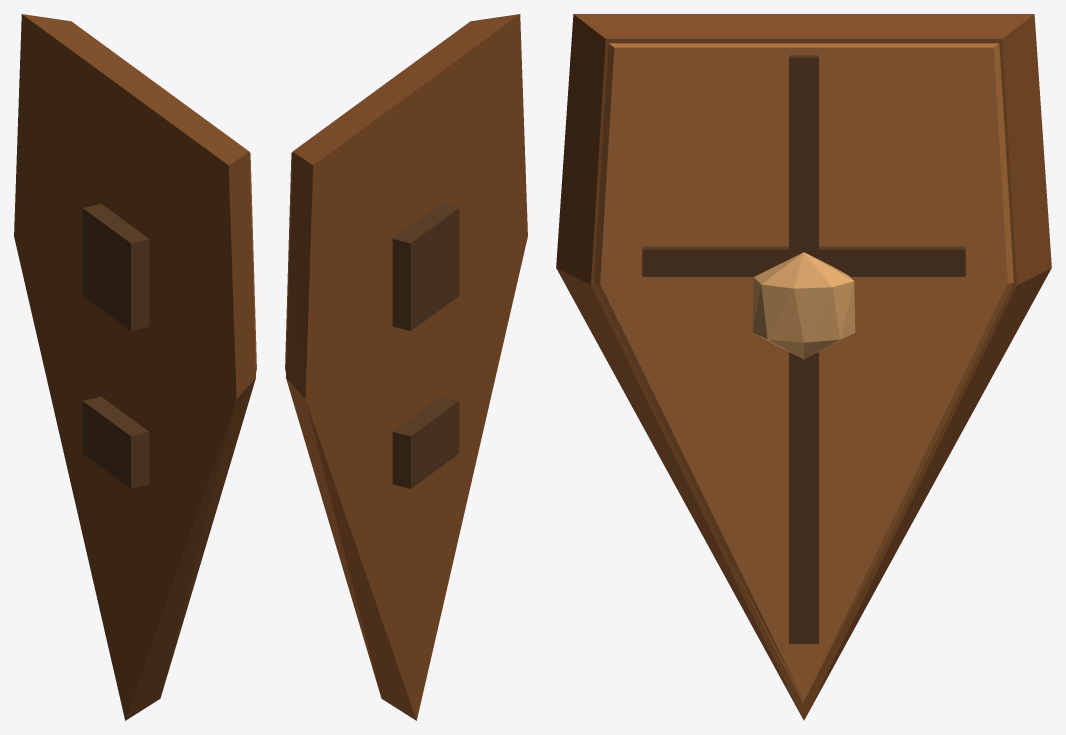
File: held_bronze_shield.glb
3 views of the same model, side by side, from view 1: azimuth 30°, elevation 25°; view 2: azimuth 150°, elevation 25°; view 3: azimuth 270°, elevation 25° (orthographic). The views are drawn at different scales.
Parts seen in each view (by area): view 1: held_bronze_shield; view 2: held_bronze_shield; view 3: held_bronze_shield.
Boxes of the visible parts, left/top/right/bottom form: held_bronze_shield: left=14, top=14, right=256, bottom=720; held_bronze_shield: left=285, top=14, right=527, bottom=720; held_bronze_shield: left=556, top=14, right=1051, bottom=720.
Size of the model in its own units: 0.1057 by 0.72 by 0.4601.
